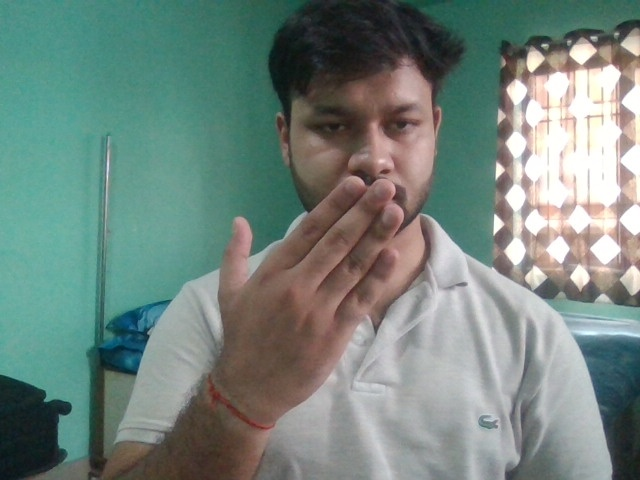Please: (215, 176, 402, 422)
